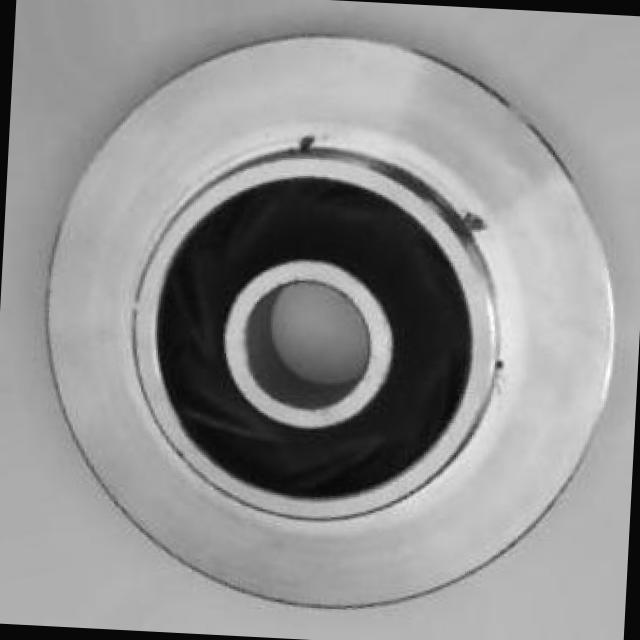Defect: (454, 203, 496, 236)
